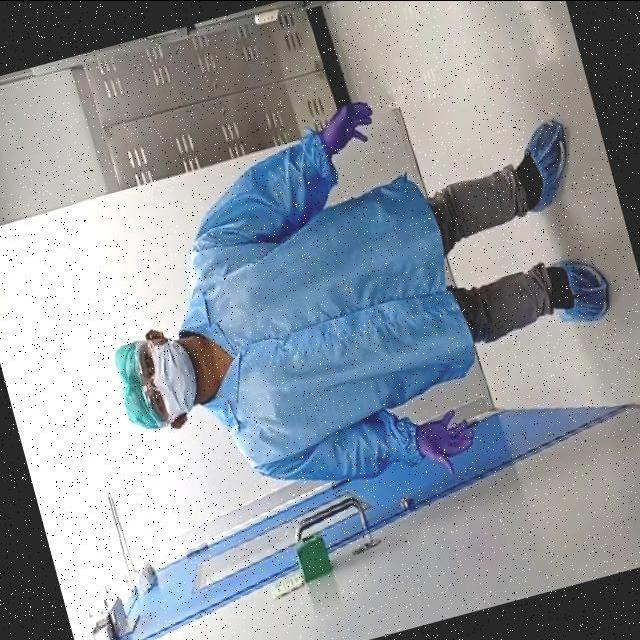apron: (413, 409, 481, 479), (318, 91, 380, 166)
